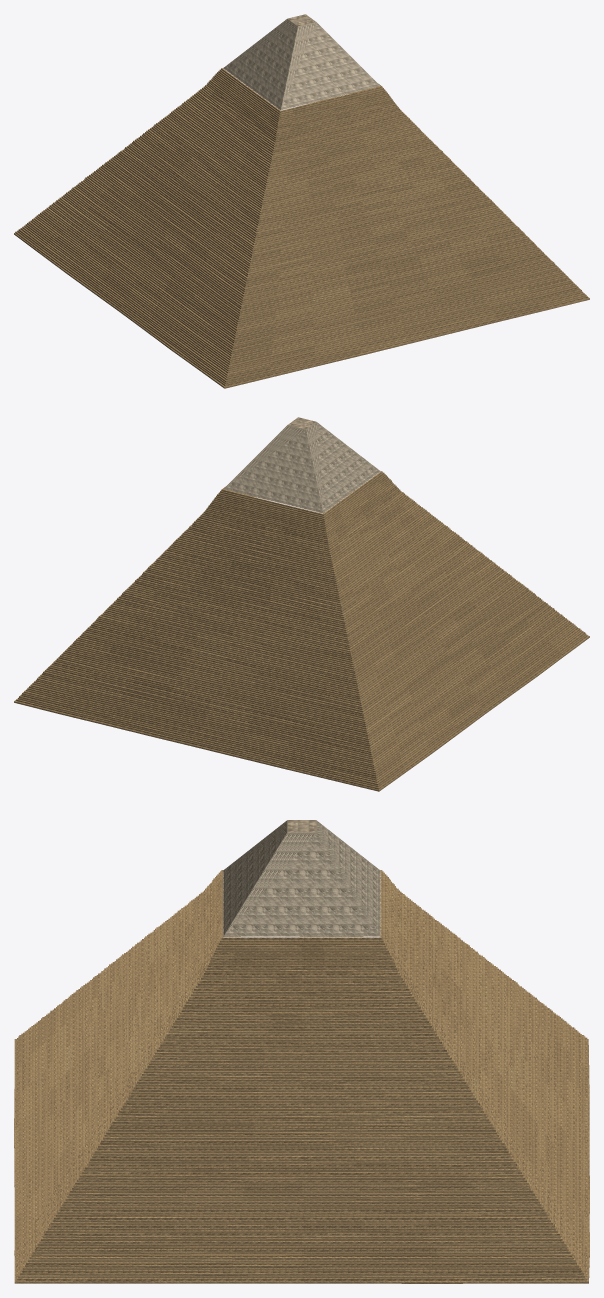
The model's file is giza_khafre.glb.
3 views of the same model, one above another, from view 1: azimuth 30°, elevation 25°; view 2: azimuth 150°, elevation 25°; view 3: azimuth 270°, elevation 25° (orthographic). The views are drawn at different scales.
Parts seen in each view (by area): view 1: Khafre; view 2: Khafre; view 3: Khafre.
Part boxes in pixels (bbox=[...]): Khafre: bbox=[14, 14, 589, 388]; Khafre: bbox=[14, 417, 589, 791]; Khafre: bbox=[14, 820, 589, 1283].
Bounding box in the file's own units: 212 × 136 × 212.
Materials: 2 (2 with a texture image).
